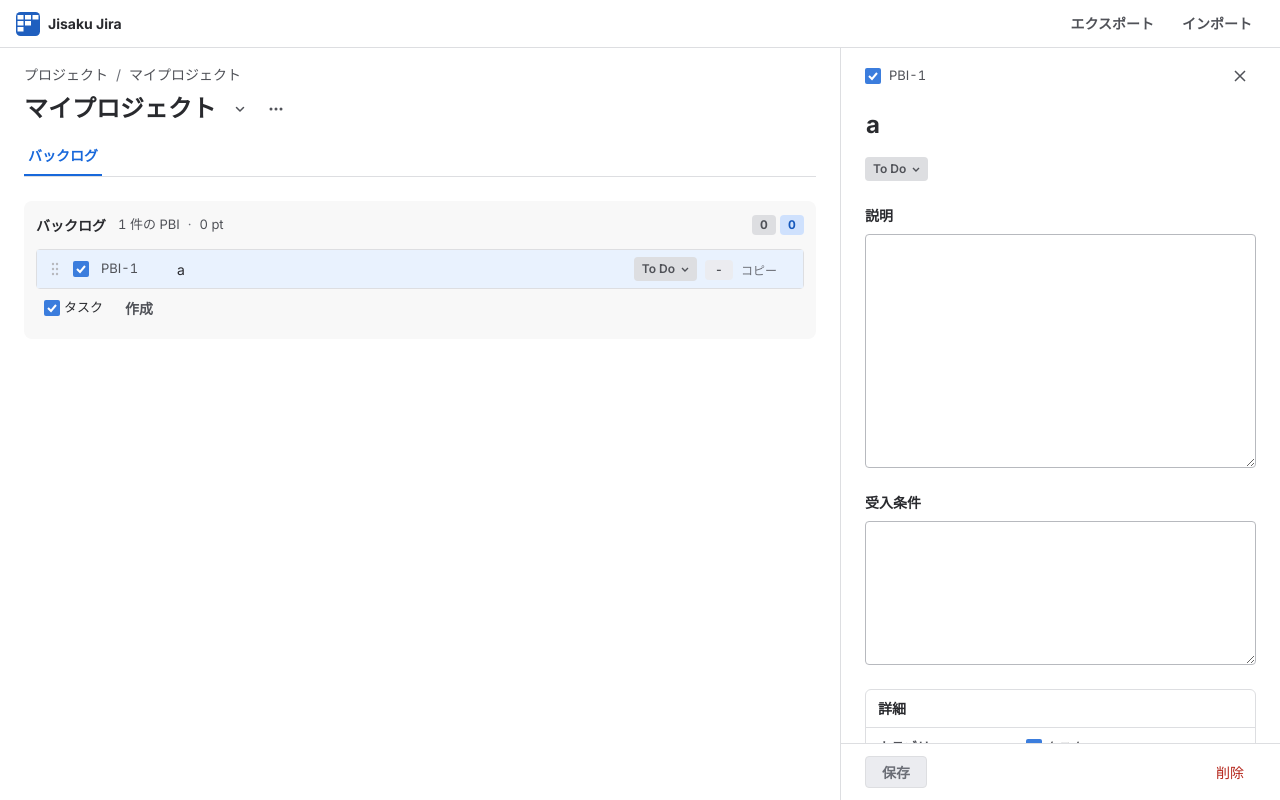
it: 詳細パネル › タイトルが空 のときはエラーを表示して保存しない
Clear the text box named "タイトル" at (1060, 125), box x1=857 y1=104 x2=1264 y2=145
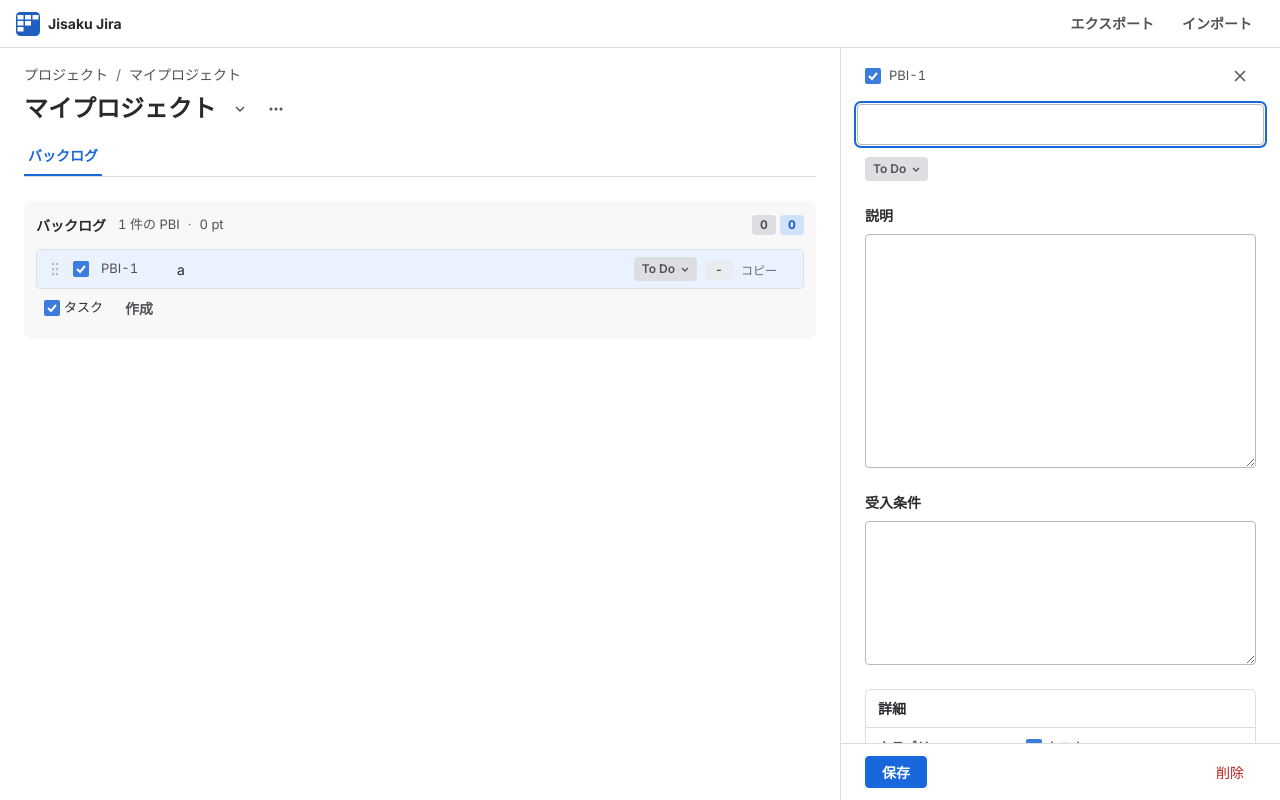
Click the button "保存".
click(896, 772)  # box x1=865 y1=756 x2=927 y2=788
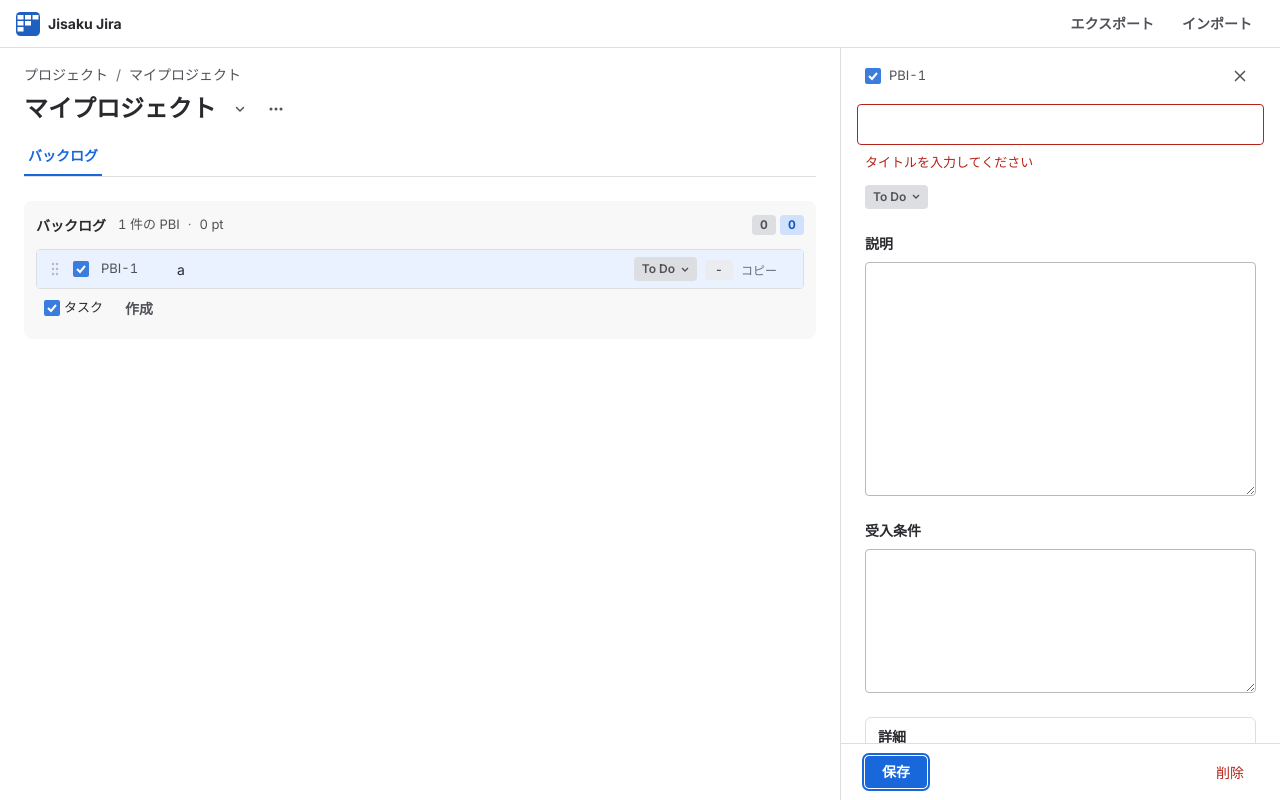
Now the message reads "タイトルを入力してください", box x1=865 y1=154 x2=1033 y2=170
